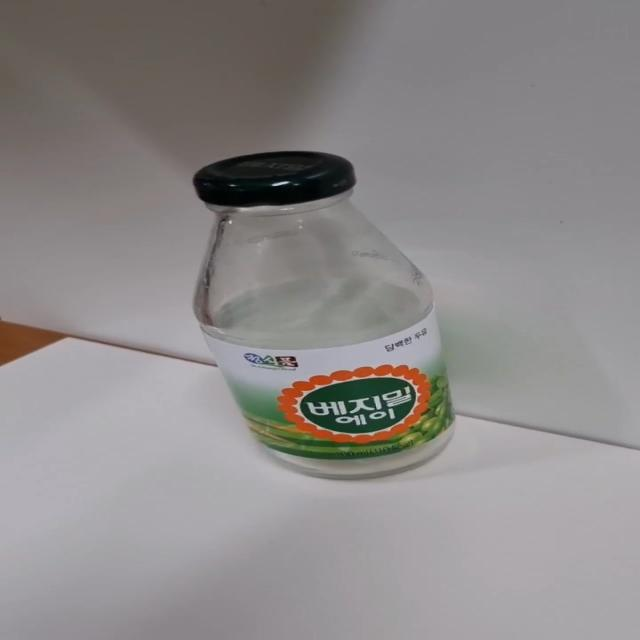Glass: (186, 150, 467, 482)
